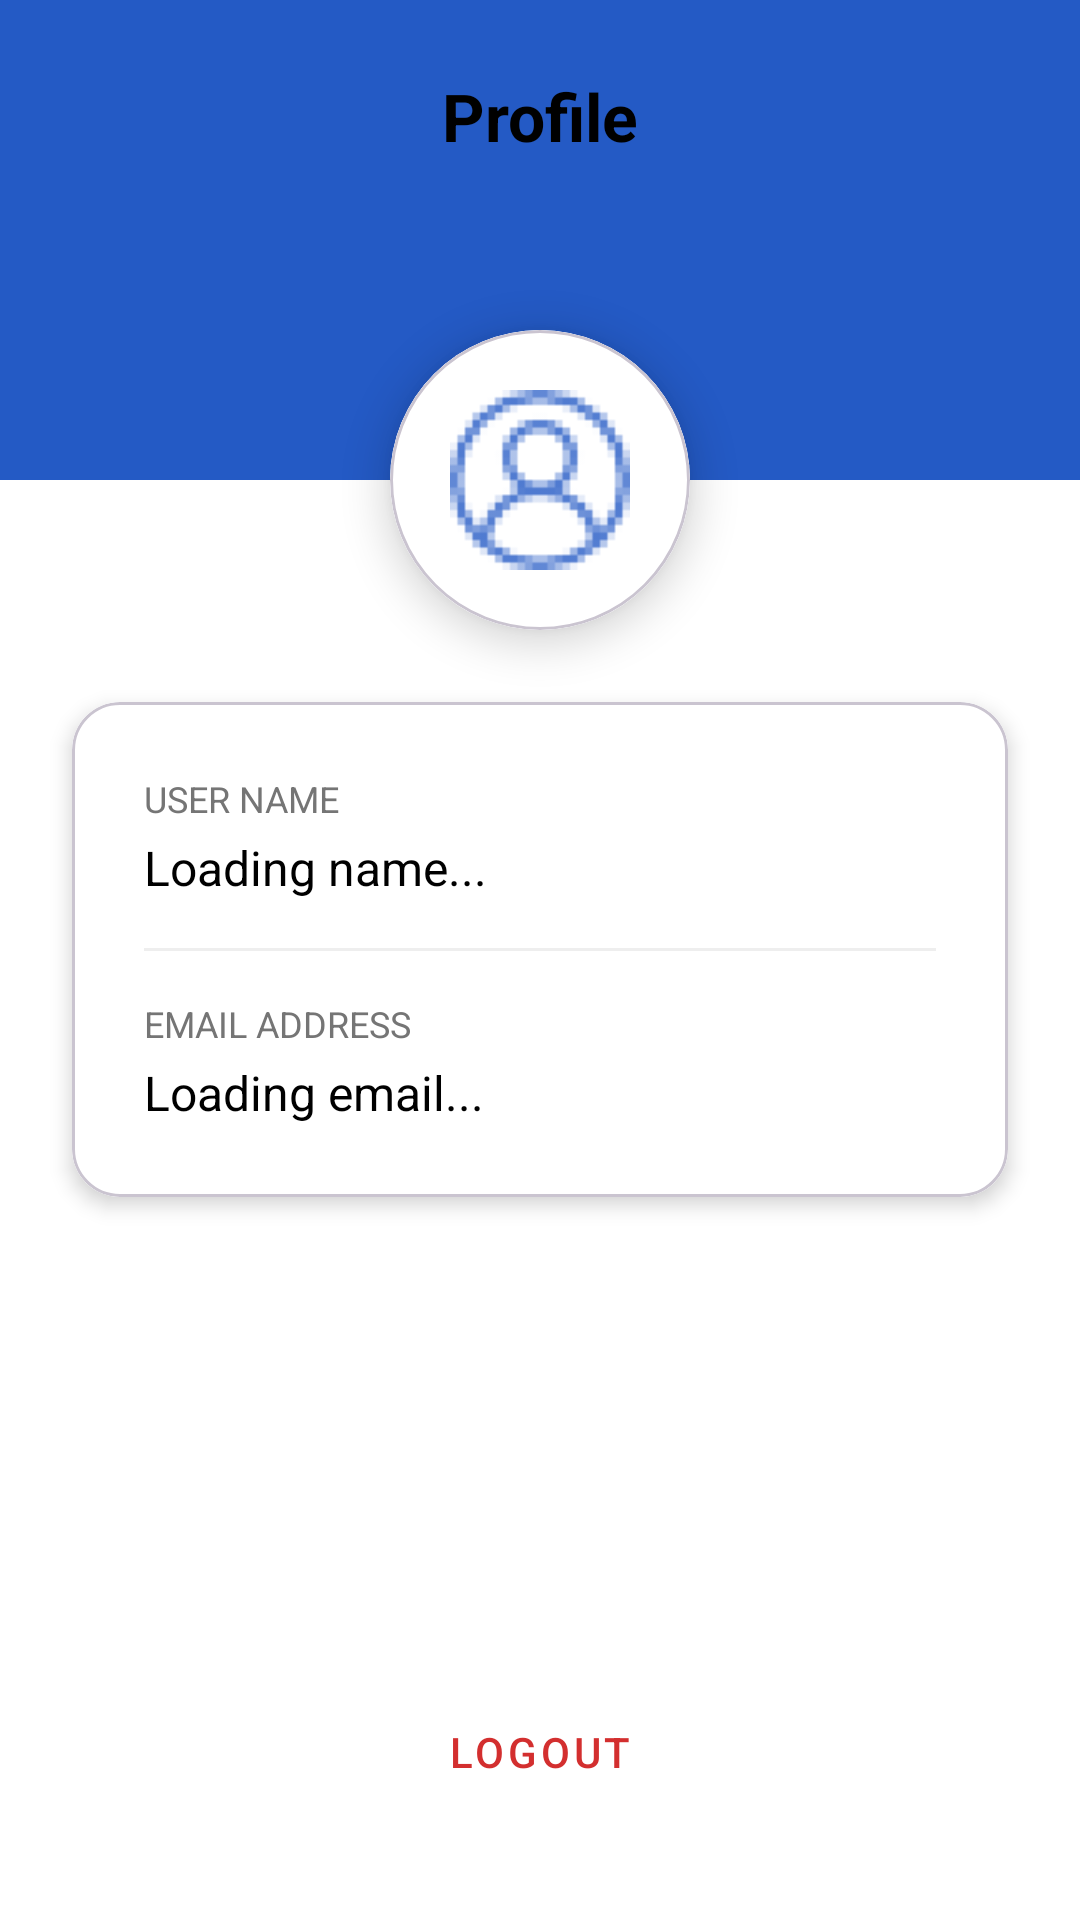

Icon click points for this 1080 x 1920 phone screenshot, format (x,y):
profile: (540,480)
